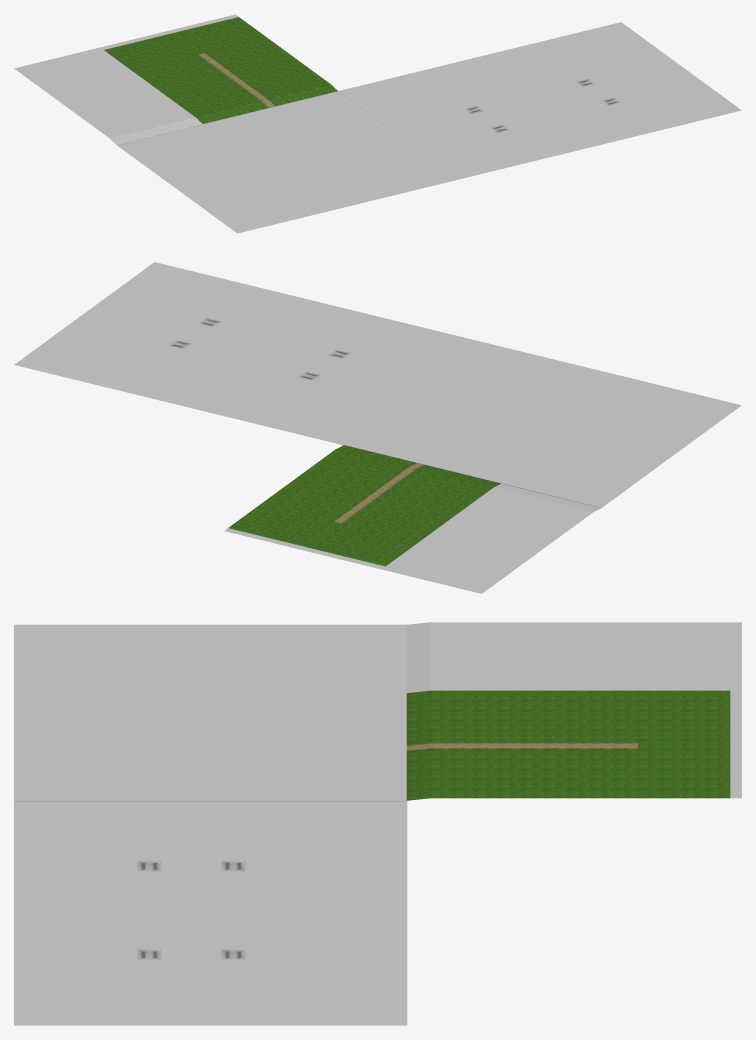
File: ROAD.fbx
3 renders of one model, top to bottom at view 1: azimuth 30°, elevation 25°; view 2: azimuth 150°, elevation 25°; view 3: azimuth 270°, elevation 25°, orthographic. The views are drawn at different scales.
Visible parts, largest first — view 1: road; view 2: road; view 3: road.
Boxes of the visible parts, bbox=[...] form: road: bbox=[14, 14, 741, 233]; road: bbox=[14, 262, 741, 593]; road: bbox=[14, 622, 741, 1025].
Size of the model in its own units: 18452 by 57.11 by 14156.
